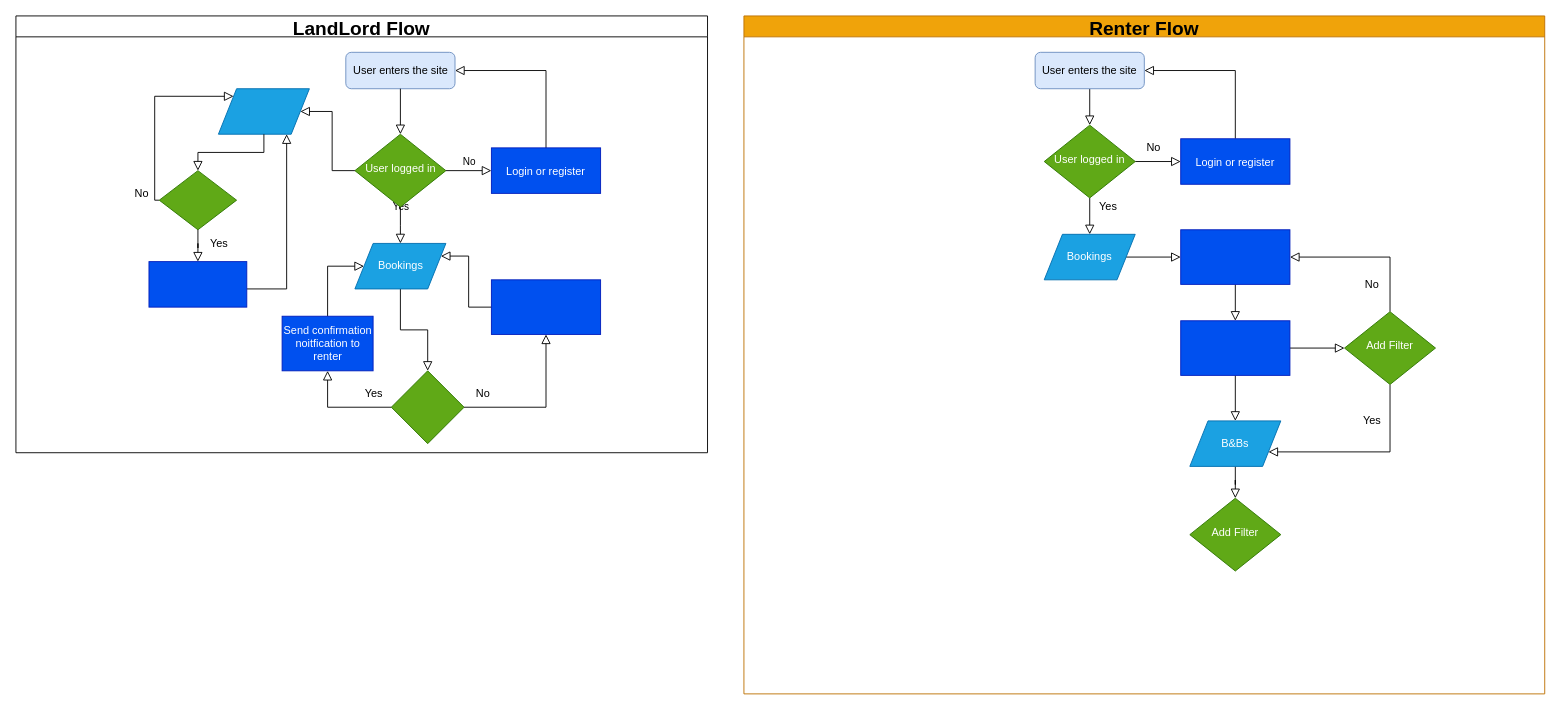
The diagram is 1561 pixels wide and 710 high, and some of its shapes have lost their labels. The centre of each missing label's shape, as x and y in pixels:
"Accept Booking" belongs at point 427,407.
"Create" belongs at point 197,200.
"Enter Search word" belongs at point 1235,347.
"Enter the required information" belongs at point 197,284.
"My B&Bs" belongs at point 263,111.
"Search for B&Bs" belongs at point 1235,256.
"Send cancelation noitfication to renter" belongs at point 545,306.
